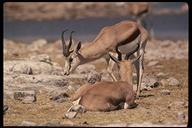antelope: (61, 20, 148, 82), (71, 53, 144, 113)
grass: (10, 103, 63, 121), (161, 58, 187, 76)
rock: (5, 56, 63, 94)
water: (6, 19, 61, 39)
